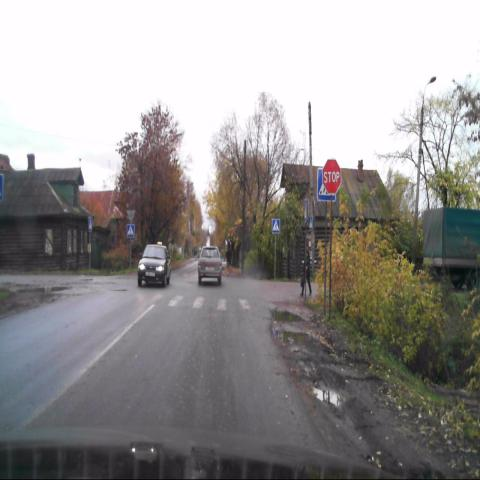2_5: (323, 159, 341, 193)
